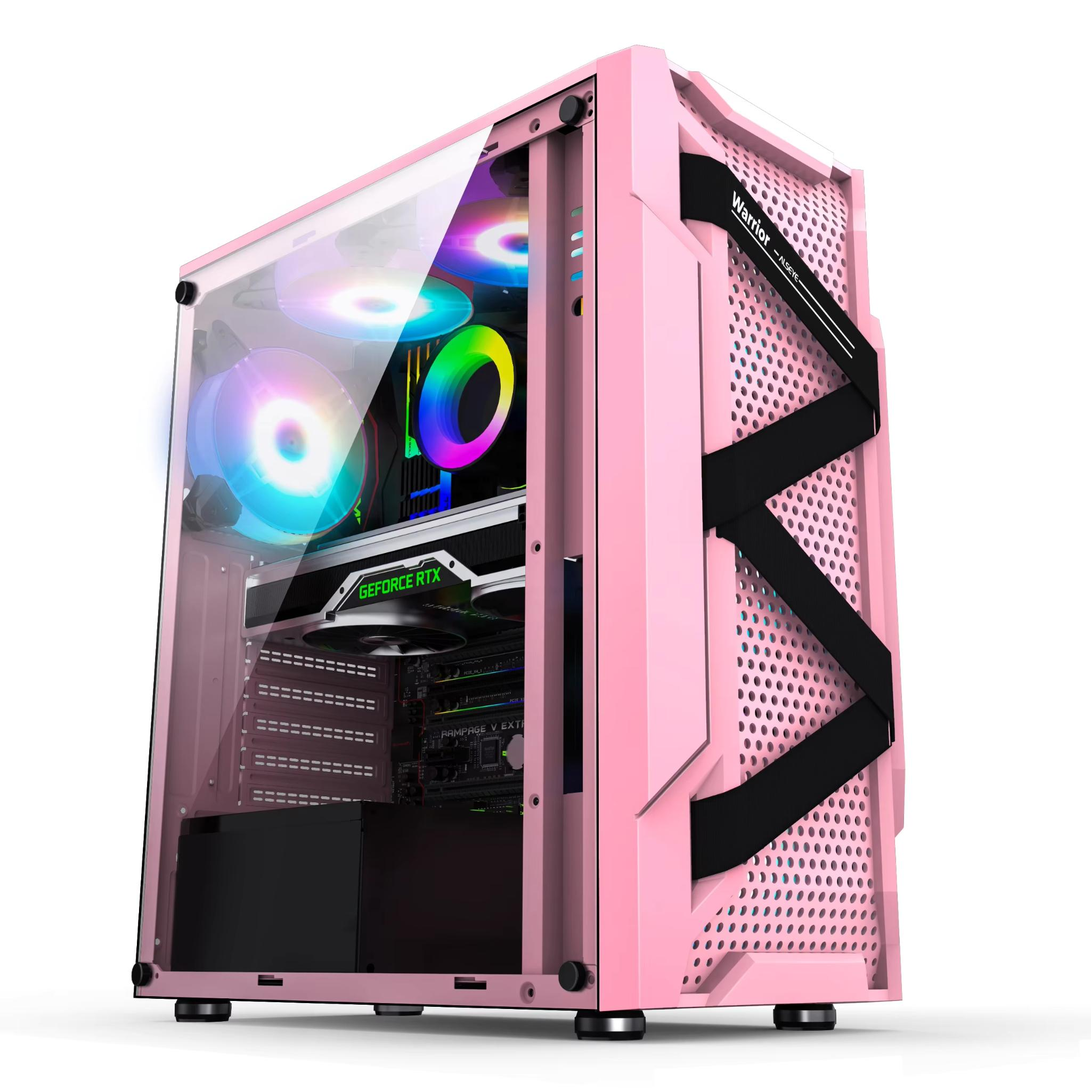pc: (125, 30, 930, 1056)
